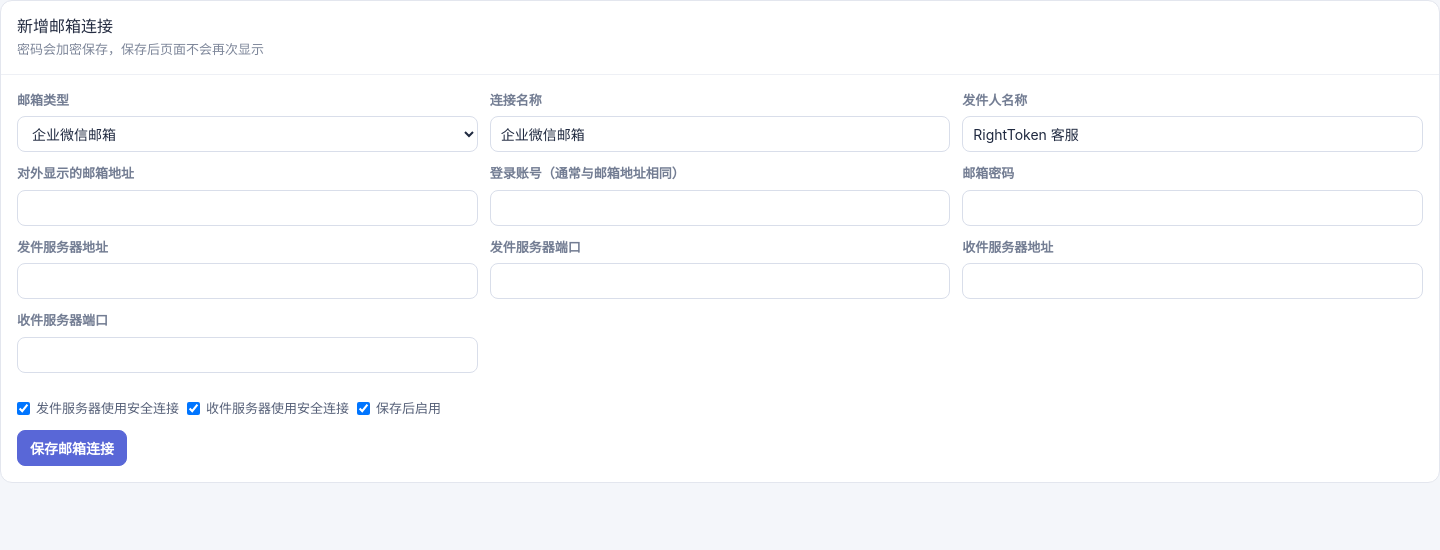
Test: MailboxSettingsForm › saves an enterprise mailbox without Namecheap defaults
The width and height of the screenshot is (1440, 550).
Check: the dropdown labelled "邮箱类型" shows "企业微信邮箱", box x1=17 y1=116 x2=478 y2=152
In the field labelled "对外显示的邮箱地址": (247, 208) x1=17 y1=190 x2=478 y2=226, type "support@righttoken.test"
In the field labelled "登录账号（通常与邮箱地址相同）": (720, 208) x1=490 y1=190 x2=950 y2=226, type "support@righttoken.test"
In the password field labelled "邮箱密码": (1193, 208) x1=962 y1=190 x2=1423 y2=226, type "mailbox-secret-password"
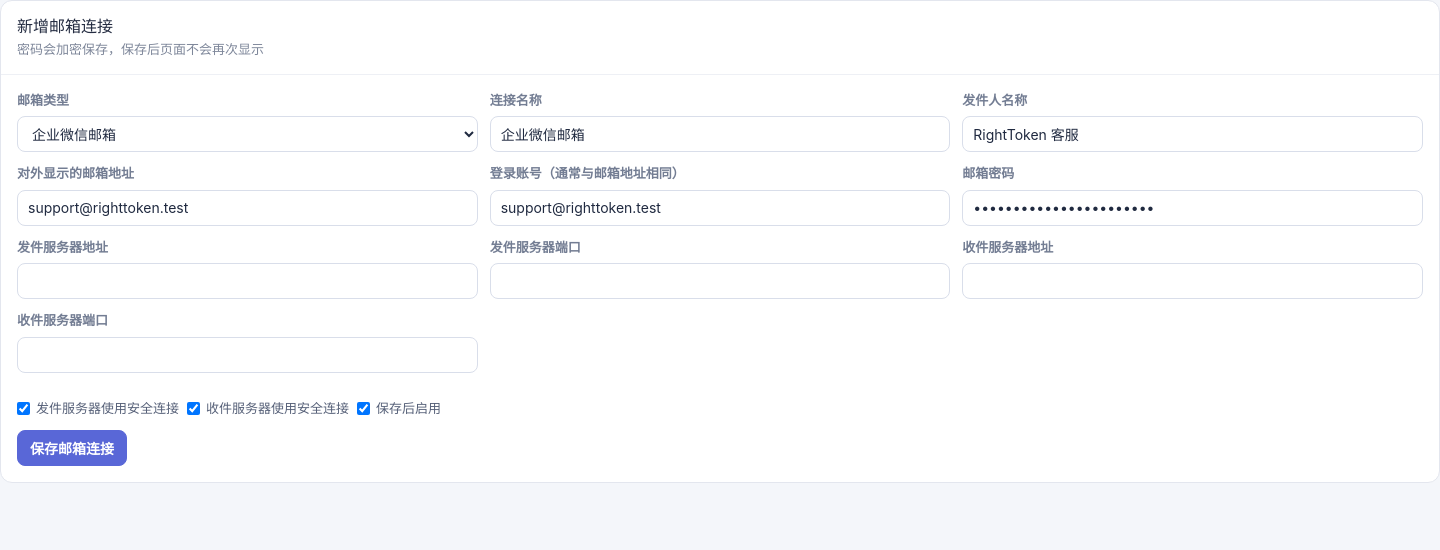
In the field labelled "发件服务器地址": (247, 281) x1=17 y1=263 x2=478 y2=299, type "smtp.exmail.qq.com"
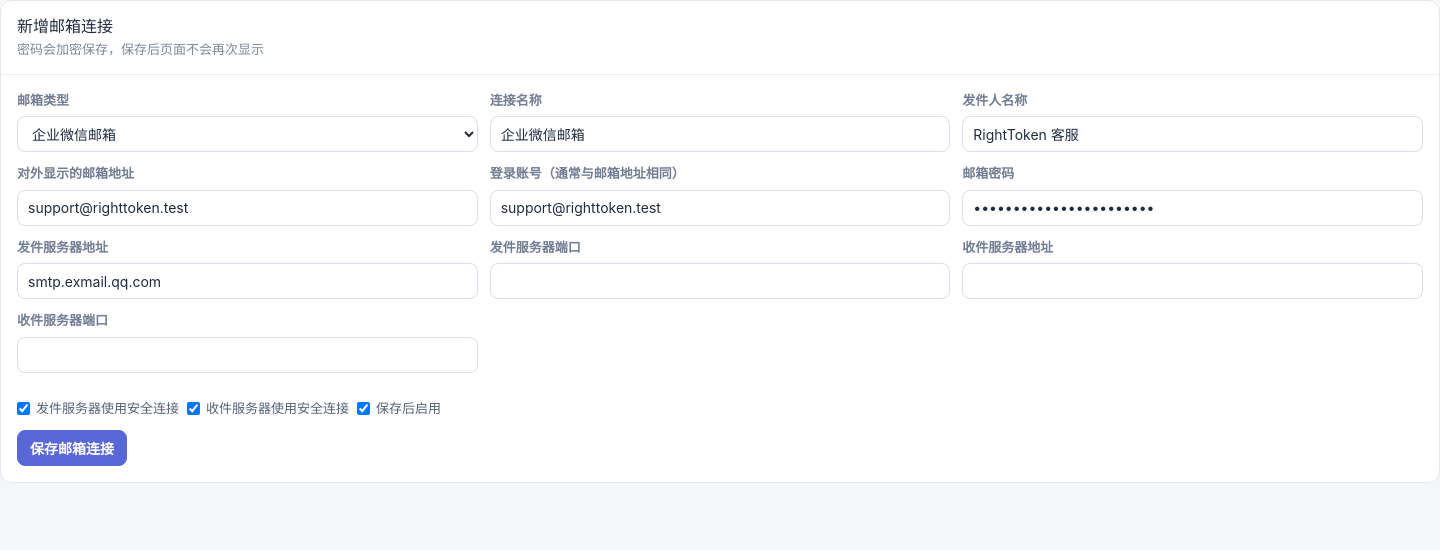
In the number field labelled "发件服务器端口": (720, 281) x1=490 y1=263 x2=950 y2=299, type "465"
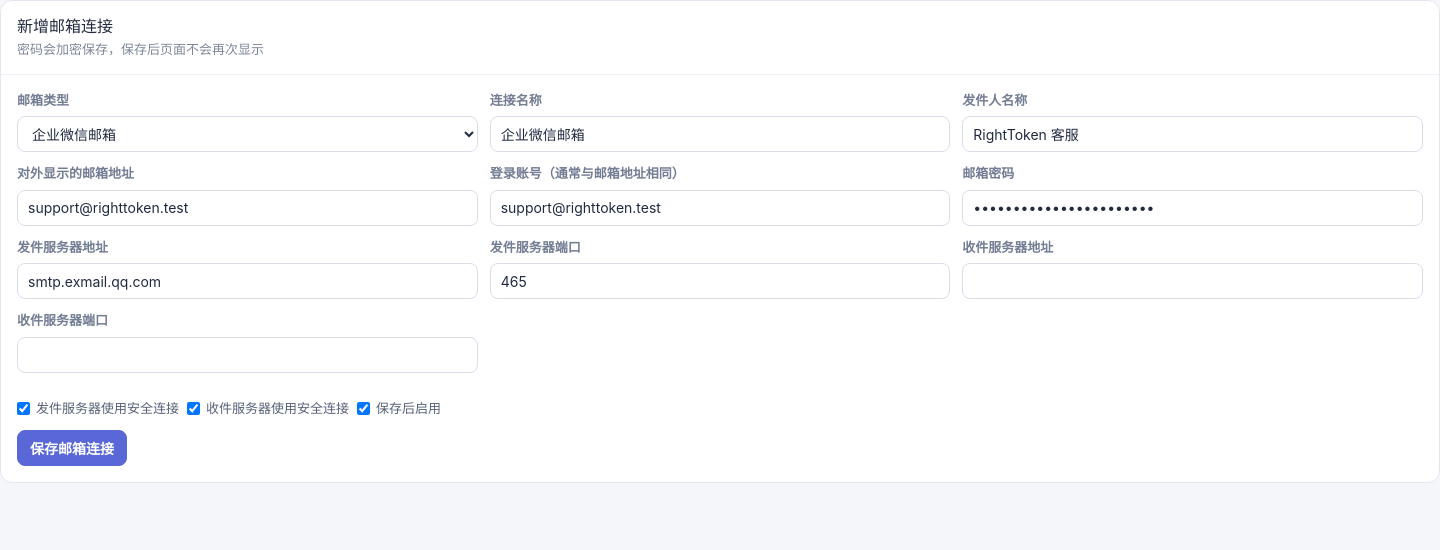
In the field labelled "收件服务器地址": (1193, 281) x1=962 y1=263 x2=1423 y2=299, type "imap.exmail.qq.com"
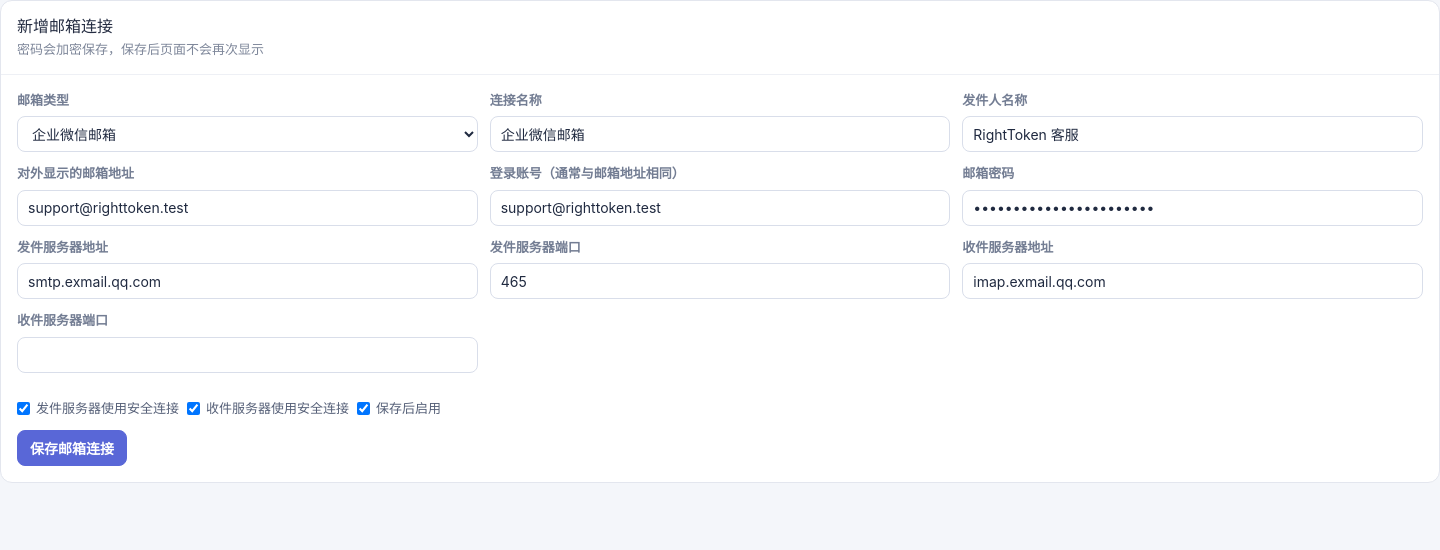
In the number field labelled "收件服务器端口": (247, 355) x1=17 y1=337 x2=478 y2=373, type "993"
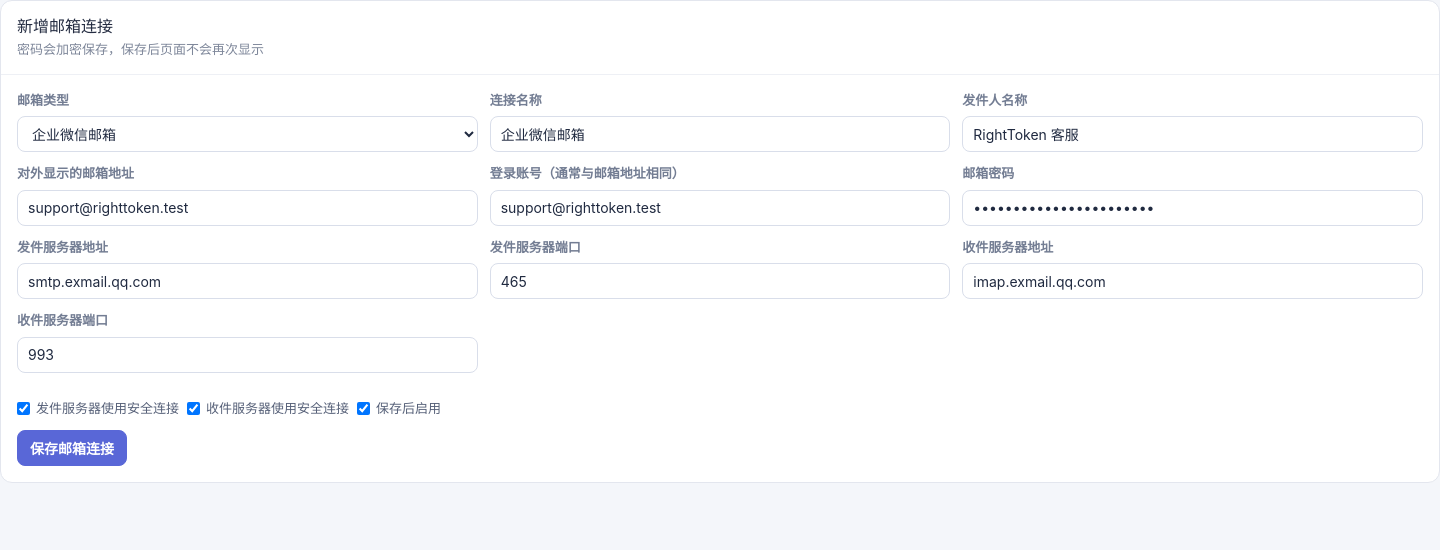
Click the button "保存邮箱连接": (72, 448) x1=17 y1=430 x2=127 y2=466
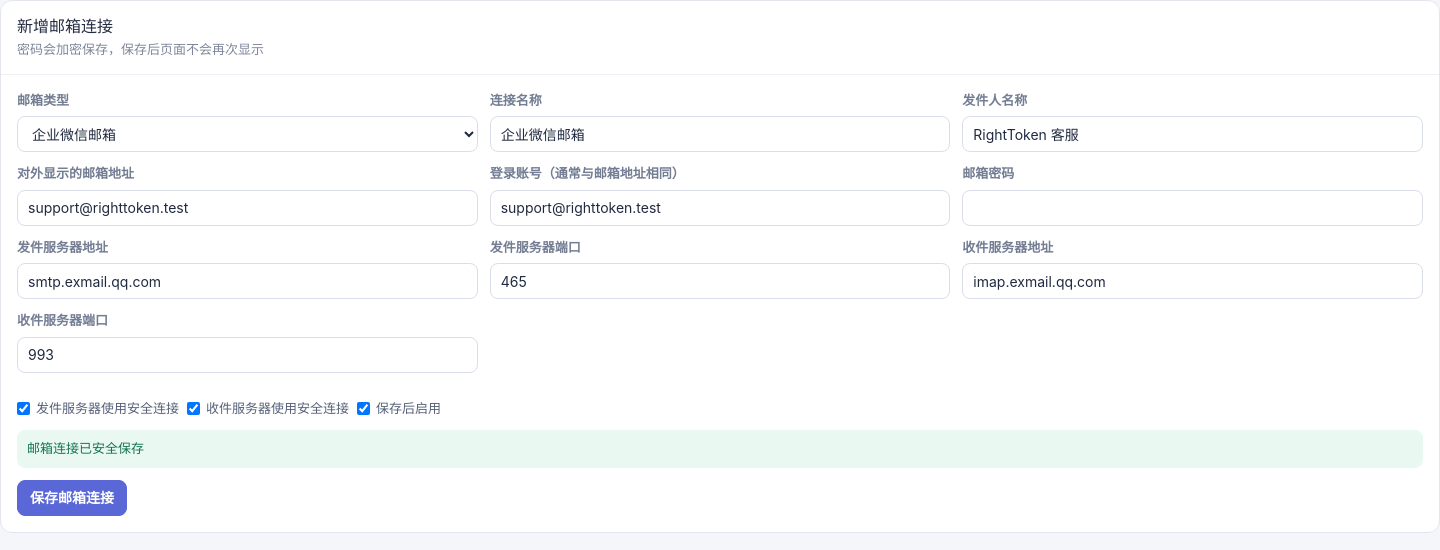
Check: the text "邮箱连接已安全保存" is shown, box x1=17 y1=430 x2=1423 y2=468
